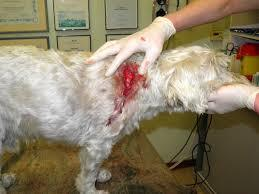bleeding: (118, 62, 137, 101)
